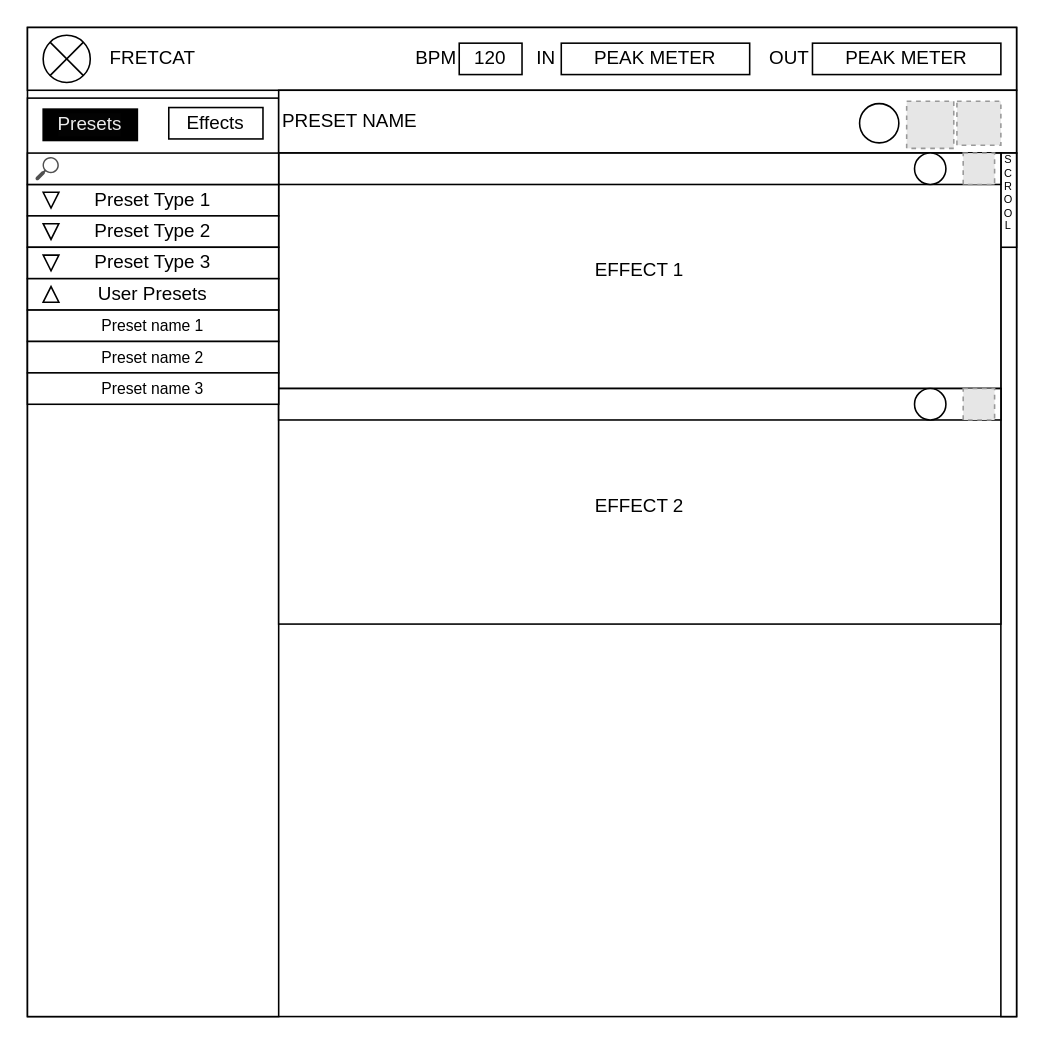
Some shapes in this 1044 by 1044 pixel diagram are drawn without their labels. Grey dashed boxes stand in for pictures. The box of each missing label's shape, as (x1, y1, x2, y2) in pixels:
EFFECT 1 TOOLBAR: (277, 152, 1001, 184)
EFFECT 2 TOOLBAR: (277, 387, 1001, 420)
GATE: (858, 102, 899, 143)
Search bar: (26, 152, 279, 184)
